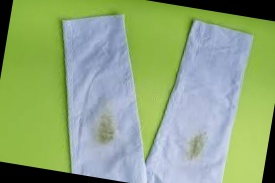earth: (94, 113, 117, 146), (185, 133, 208, 162)
